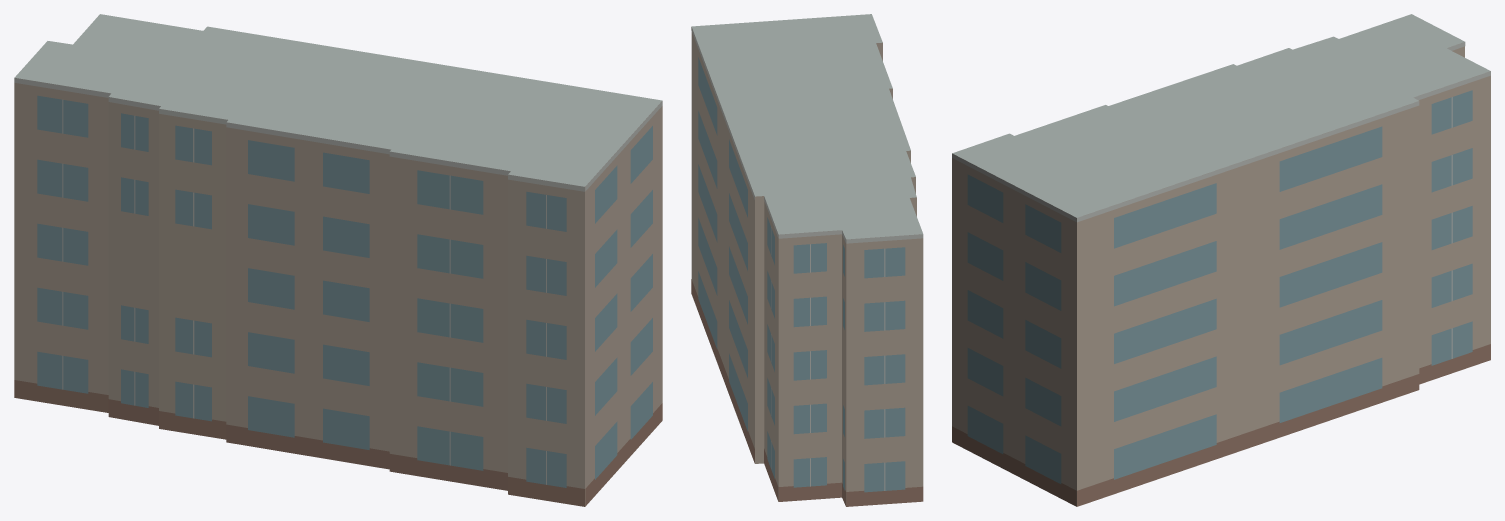
Rendered from survey-upis-32637126.glb.
The picture shows the model from 3 angles, left to right: view 1: azimuth 30°, elevation 25°; view 2: azimuth 150°, elevation 25°; view 3: azimuth 270°, elevation 25°; orthographic projection. The views are drawn at different scales.
Parts seen in each view (by area): view 1: survey-upis-32637126.tmp; view 2: survey-upis-32637126.tmp; view 3: survey-upis-32637126.tmp.
Boxes of the visible parts, bbox=[...] form: survey-upis-32637126.tmp: bbox=[14, 14, 662, 506]; survey-upis-32637126.tmp: bbox=[691, 14, 923, 506]; survey-upis-32637126.tmp: bbox=[952, 14, 1490, 506].
Size of the model in its own units: 23.55 by 15.56 by 26.3.
